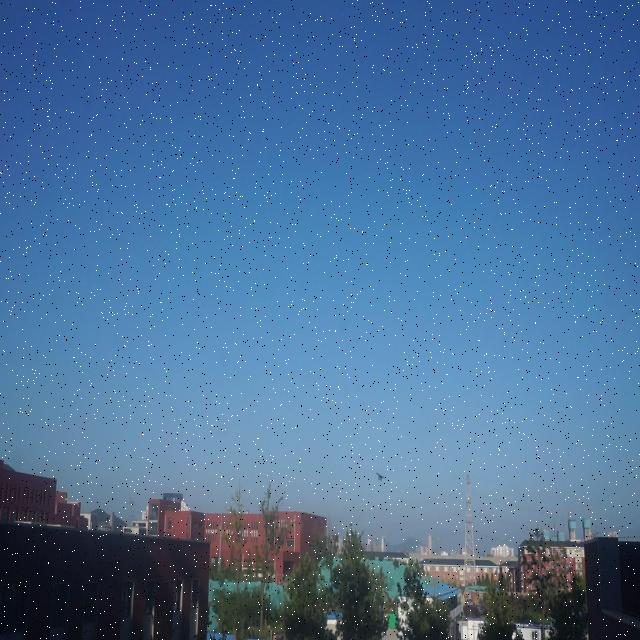UAV: (376, 472, 385, 482)
